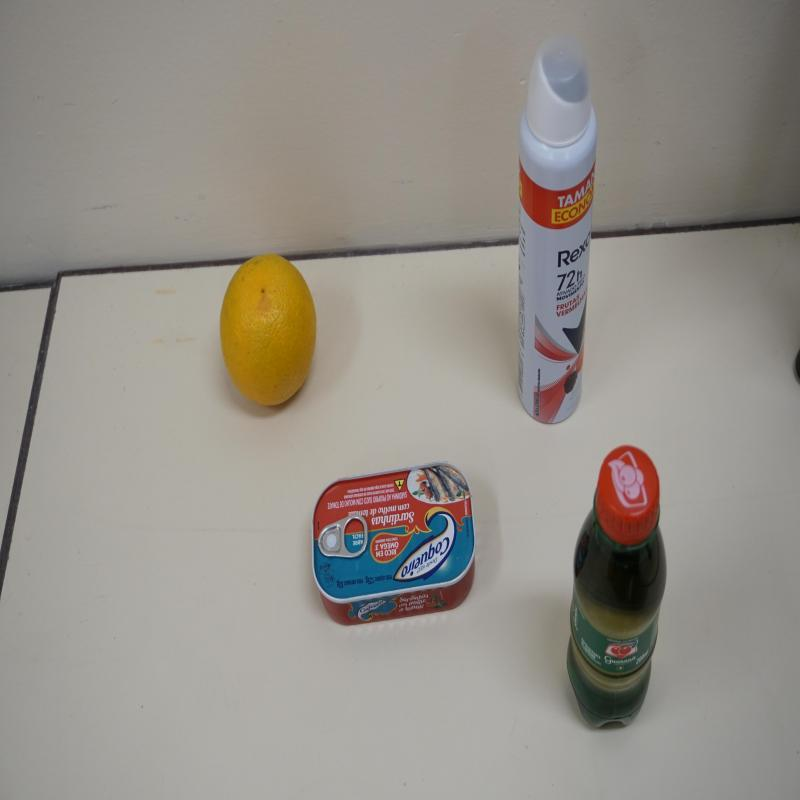Guarana: (565, 446, 668, 734)
Orange: (218, 256, 318, 414)
TunaCan: (310, 464, 478, 629)
